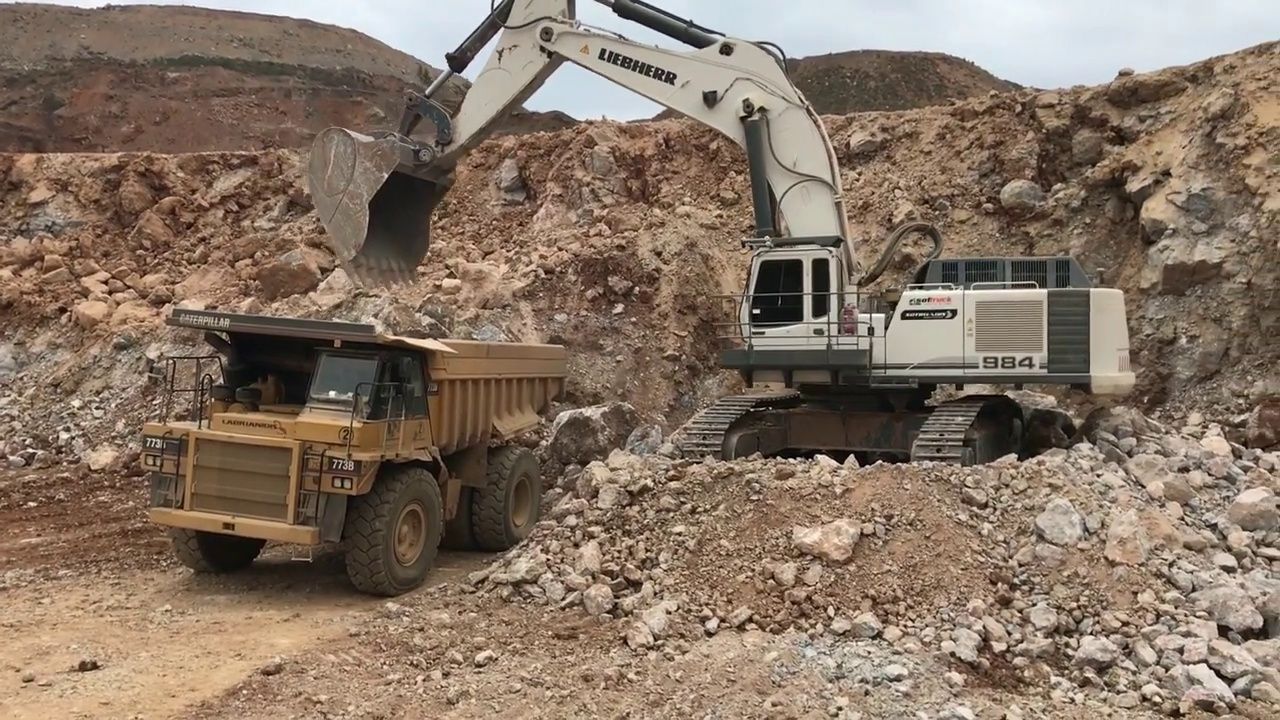dumper: (141, 306, 568, 597)
excavator: (309, 4, 1138, 477)
